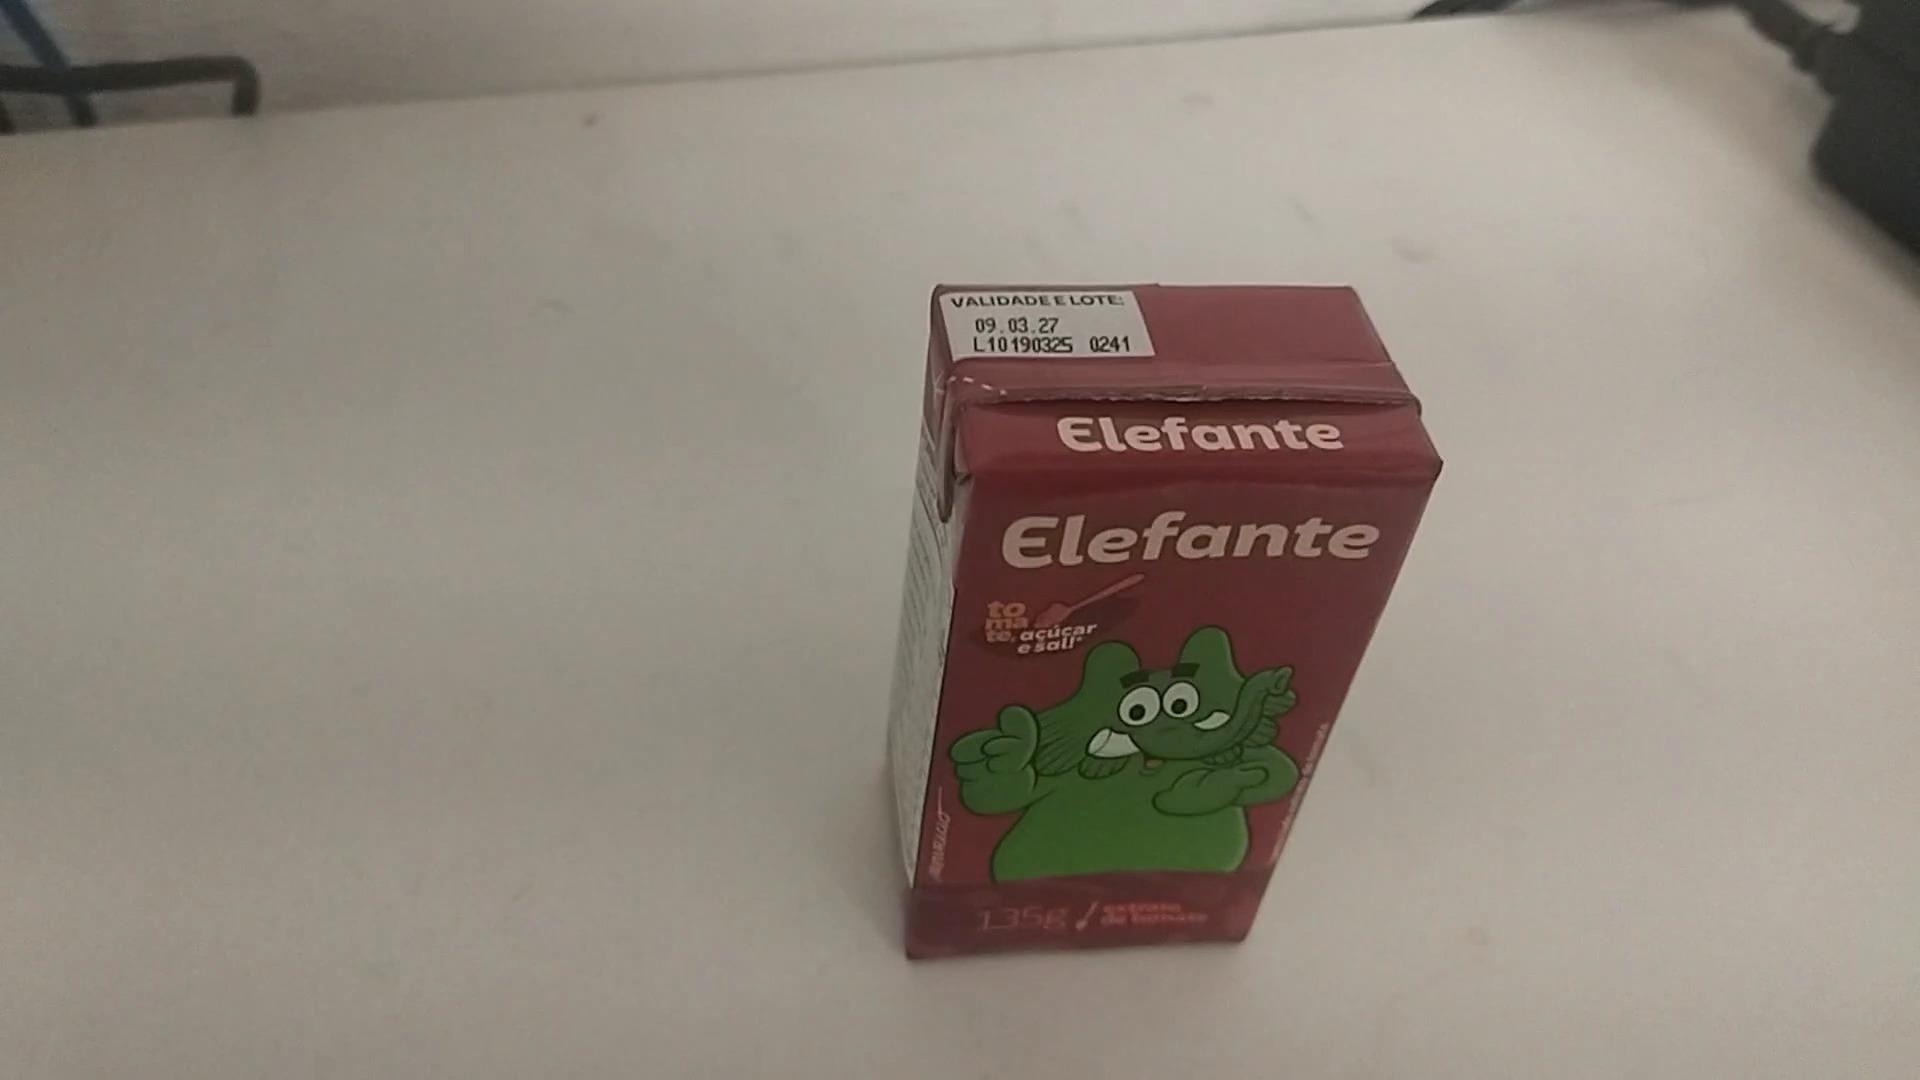tomate: (872, 261, 1452, 956)
